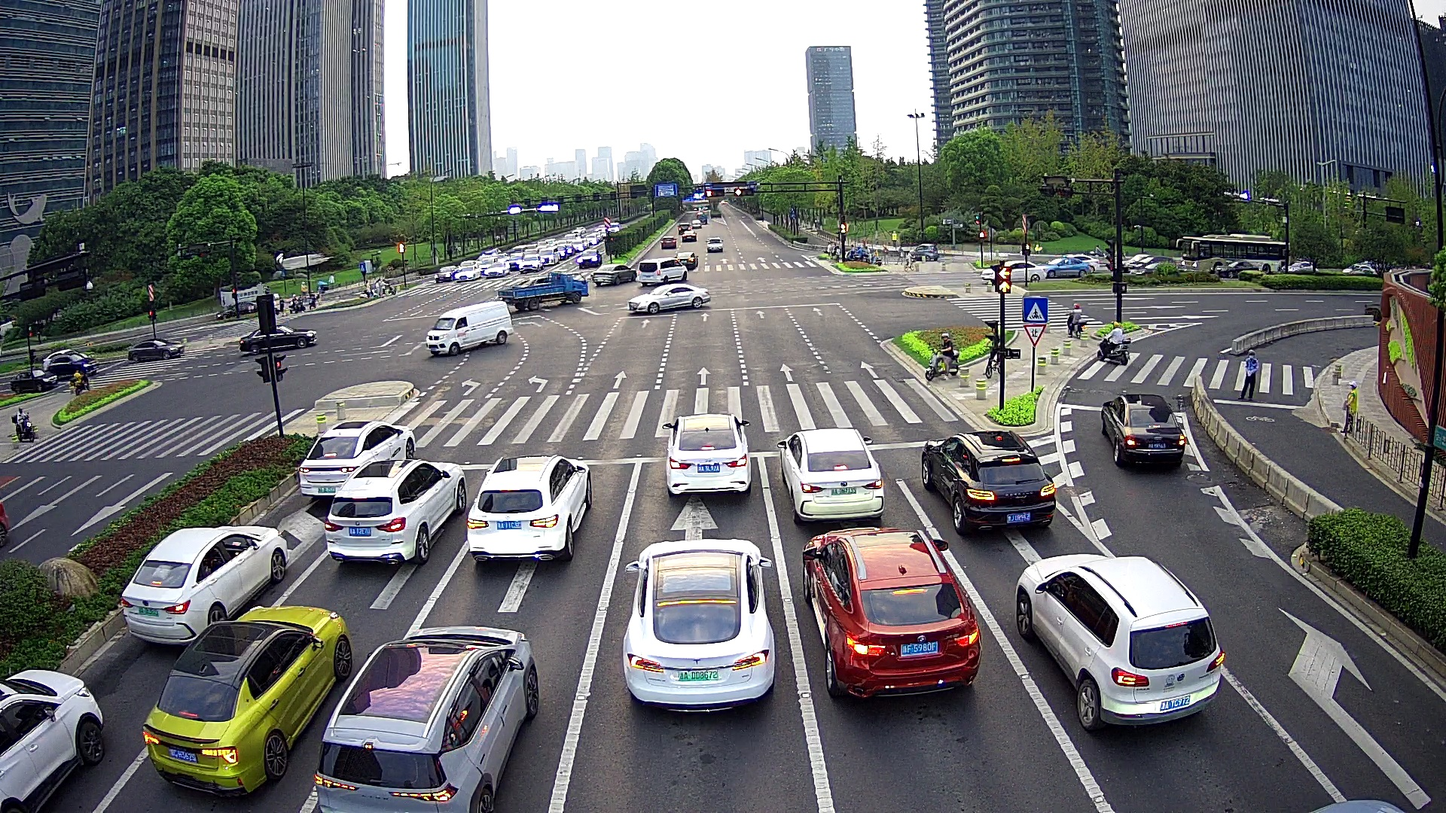person: (1240, 346, 1265, 400), (1344, 381, 1363, 437), (1103, 316, 1125, 357), (938, 327, 958, 371), (14, 405, 27, 428)
vehicle: (316, 623, 541, 810), (143, 598, 351, 793), (1011, 549, 1228, 732), (796, 522, 983, 702), (617, 533, 782, 719), (117, 518, 290, 641), (2, 652, 111, 810), (326, 455, 465, 571), (917, 425, 1060, 537), (465, 450, 593, 567), (774, 424, 888, 526), (302, 412, 415, 497), (659, 410, 758, 499), (1097, 391, 1191, 471), (422, 297, 514, 358), (495, 266, 591, 311), (620, 279, 715, 316), (239, 324, 316, 351), (127, 336, 182, 366), (923, 347, 962, 379), (1095, 334, 1134, 364), (634, 255, 682, 279), (8, 413, 35, 444)
